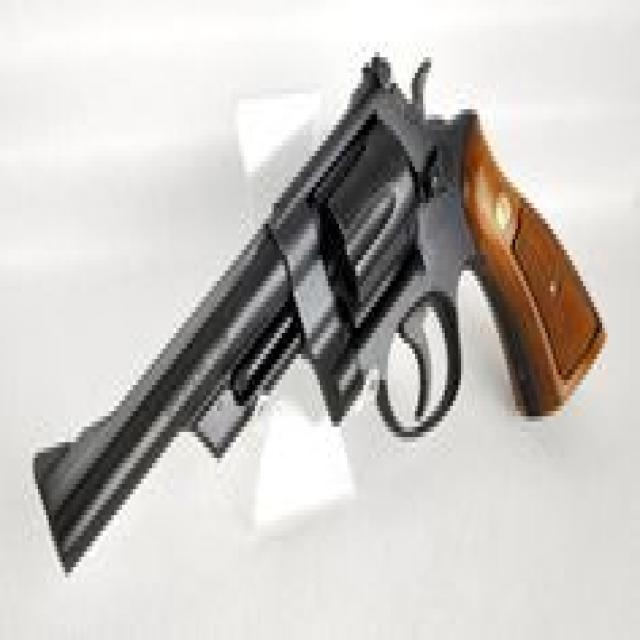revolver: (29, 38, 614, 590), (35, 57, 607, 570)
